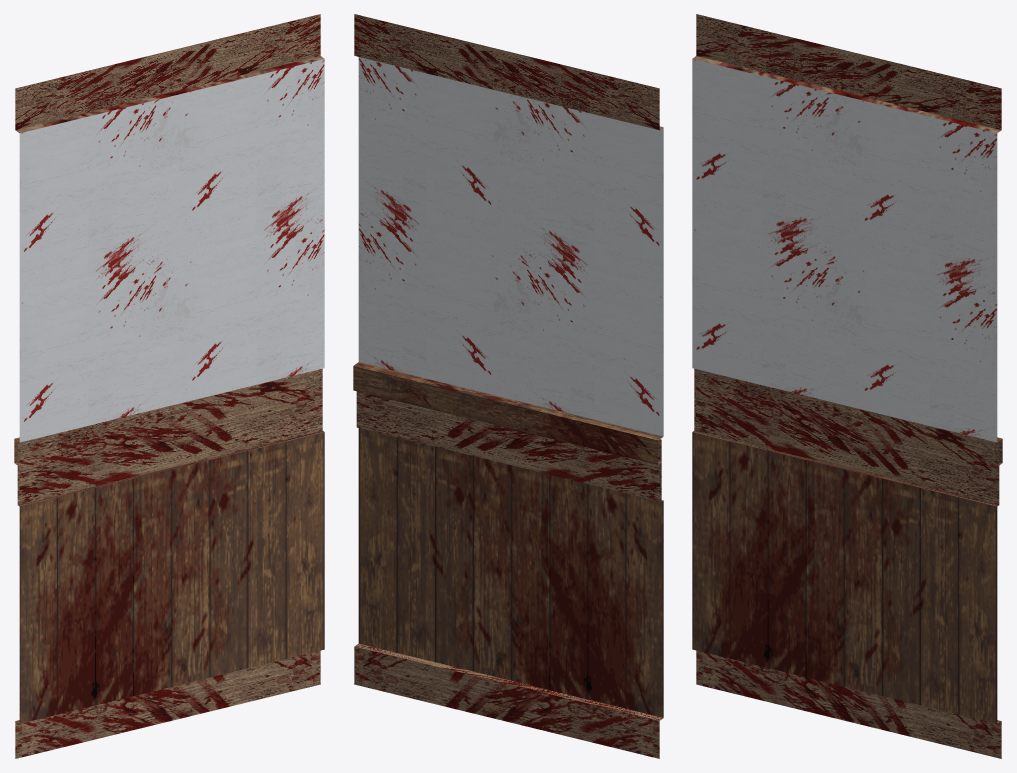
Rendered from wall_panel.fbx.
The picture shows the model from 3 angles, left to right: view 1: azimuth 30°, elevation 25°; view 2: azimuth 150°, elevation 25°; view 3: azimuth 330°, elevation 25°; orthographic projection.
Parts seen in each view (by area): view 1: wall_panel:Mesh; view 2: wall_panel:Mesh; view 3: wall_panel:Mesh.
Part boxes in pixels (x1=…): wall_panel:Mesh: x1=14, y1=14, x2=324, y2=758; wall_panel:Mesh: x1=353, y1=14, x2=663, y2=758; wall_panel:Mesh: x1=692, y1=14, x2=1002, y2=758.
Bounding box in the file's own units: 1 × 2.1 × 0.0307.
3 materials, 3 textured.
